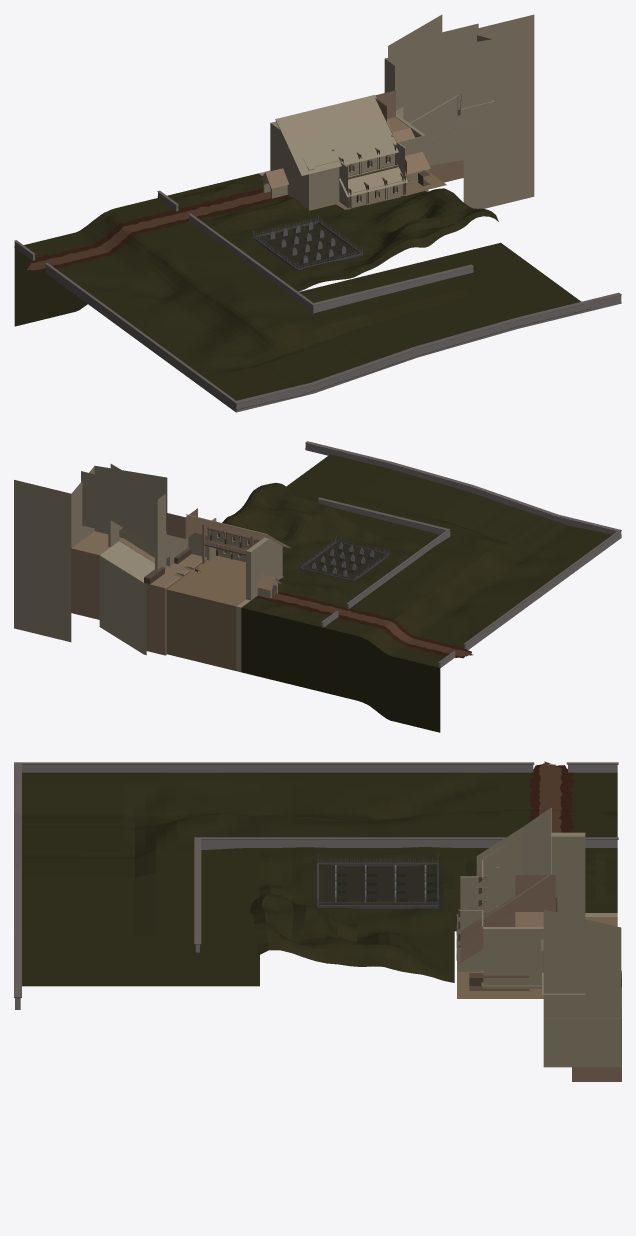
Rendered from church.fbx.
3 renders of one model, top to bottom at view 1: azimuth 30°, elevation 25°; view 2: azimuth 150°, elevation 25°; view 3: azimuth 270°, elevation 25°, orthographic. The views are drawn at different scales.
Parts seen in each view (by area): view 1: church.001; view 2: church.001; view 3: church.001.
Part boxes in pixels (<box>): church.001: <box>14,14,621,412</box>; church.001: <box>14,441,621,732</box>; church.001: <box>14,761,621,1081</box>.
Bounding box in the file's own units: 11756 × 4605 × 8506.
